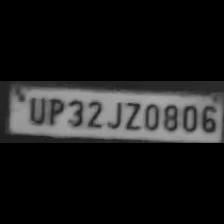0: (178, 101, 200, 133), (141, 100, 161, 132)
2: (83, 97, 103, 130)
3: (64, 96, 84, 128)
6: (198, 102, 218, 134)
8: (160, 100, 180, 134)
J: (104, 98, 122, 130)
P: (44, 95, 64, 127)
U: (24, 94, 46, 126)
Z: (122, 99, 142, 131)
